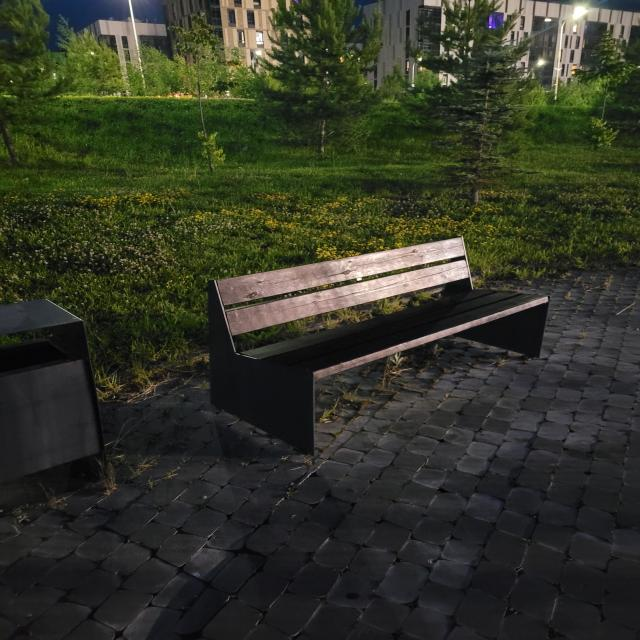Bench: (210, 235, 551, 457)
